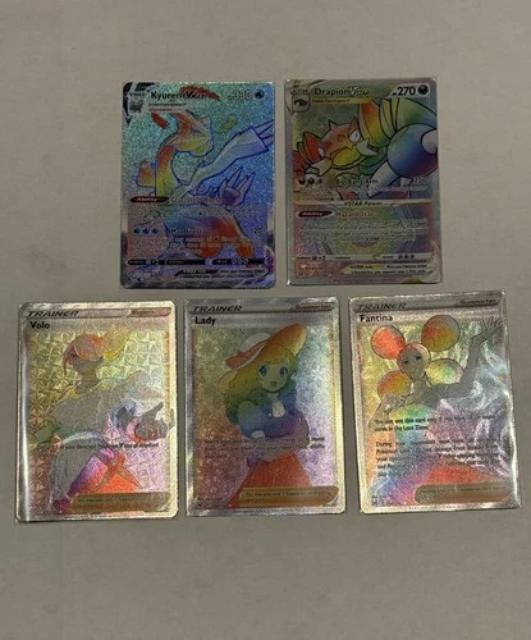Card: (346, 286, 526, 518), (12, 297, 181, 525), (181, 293, 350, 520), (280, 75, 445, 288), (117, 78, 280, 293)
Name: (312, 81, 375, 99), (145, 87, 211, 103), (352, 309, 401, 326), (186, 311, 220, 330), (26, 318, 58, 331)
